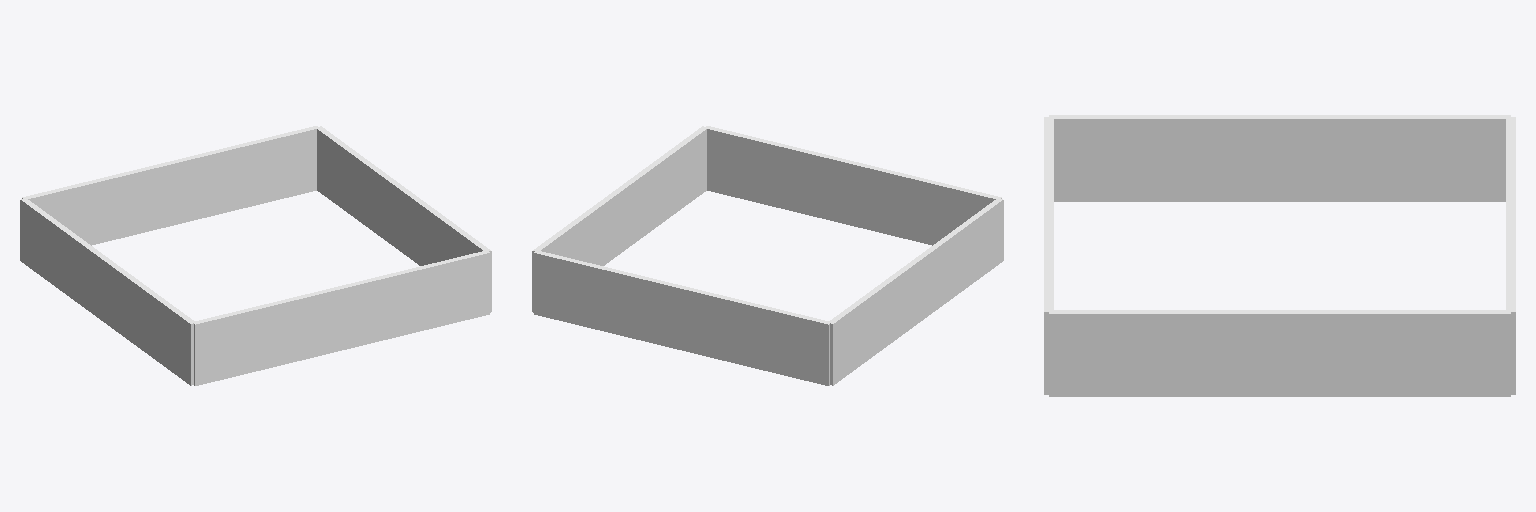
URDF robot description (unnamed):
<robot name="unnamed" version="1.0">
  <joint name="wall_1_2" type="fixed">
    <origin rpy="0.00000 0.00000 0.00000" xyz="0.00000 0.00000 0.00000"/>
    <parent link="wall_1"/>
    <child link="wall_2"/>
  </joint>
  <joint name="wall_2_3" type="fixed">
    <origin rpy="0.00000 0.00000 0.00000" xyz="0.00000 0.00000 0.00000"/>
    <parent link="wall_2"/>
    <child link="wall_3"/>
  </joint>
  <joint name="wall_3_4" type="fixed">
    <origin rpy="0.00000 0.00000 0.00000" xyz="0.00000 0.00000 0.00000"/>
    <parent link="wall_3"/>
    <child link="wall_4"/>
  </joint>
  <link name="wall_1">
    <collision name="ceiling_collision">
      <origin rpy="0.00000 0.00000 0.00000" xyz="0.00000 0.00000 3.00000"/>
      <geometry>
        <box size="5.00000 5.00000 0.10000"/>
      </geometry>
    </collision>
    <collision name="wall_1_collision">
      <origin rpy="1.57080 0.00000 0.00000" xyz="2.50000 0.00000 1.50000"/>
      <geometry>
        <box size="0.10000 3.00000 5.00000"/>
      </geometry>
    </collision>
    <visual name="wall_1_visual">
      <origin rpy="0.00000 0.00000 0.00000" xyz="2.50000 0.00000 0.50000"/>
      <material name="white.001"/>
      <geometry>
        <box size="0.10000 5.00000 1.00000"/>
      </geometry>
    </visual>
  </link>
  <link name="wall_2">
    <collision name="wall_2_collision">
      <origin rpy="0.00000 0.00000 0.00000" xyz="-2.50000 0.00000 1.50000"/>
      <geometry>
        <box size="0.10000 5.00000 3.00000"/>
      </geometry>
    </collision>
    <visual name="wall_2_visual">
      <origin rpy="0.00000 0.00000 0.00000" xyz="-2.50000 0.00000 0.50000"/>
      <material name="white"/>
      <geometry>
        <box size="0.10000 5.00000 1.00000"/>
      </geometry>
    </visual>
  </link>
  <link name="wall_3">
    <collision name="wall_3_collision">
      <origin rpy="0.00000 0.00000 0.00000" xyz="0.00000 2.50000 1.50000"/>
      <geometry>
        <box size="5.00000 0.10000 3.00000"/>
      </geometry>
    </collision>
    <visual name="wall_3_visual">
      <origin rpy="0.00000 0.00000 0.00000" xyz="0.00000 2.50000 0.50000"/>
      <material name="white.002"/>
      <geometry>
        <box size="5.00000 0.10000 1.00000"/>
      </geometry>
    </visual>
  </link>
  <link name="wall_4">
    <collision name="wall_4_collision">
      <origin rpy="0.00000 0.00000 0.00000" xyz="0.00000 -2.50000 1.50000"/>
      <geometry>
        <box size="5.00000 0.10000 3.00000"/>
      </geometry>
    </collision>
    <visual name="wall_4_visual">
      <origin rpy="0.00000 0.00000 0.00000" xyz="0.00000 -2.50000 0.50000"/>
      <material name="white.003"/>
      <geometry>
        <box size="5.00000 0.10000 1.00000"/>
      </geometry>
    </visual>
  </link>
  <material name="white">
    <color rgba="1.00000 1.00000 1.00000 1.00000"/>
  </material>
  <material name="white.001">
    <color rgba="1.00000 1.00000 1.00000 1.00000"/>
  </material>
  <material name="white.002">
    <color rgba="1.00000 1.00000 1.00000 1.00000"/>
  </material>
  <material name="white.003">
    <color rgba="1.00000 1.00000 1.00000 1.00000"/>
  </material>
</robot>

--- What the picture shows (computed from the rendered views, not written in the file) ---
3 views of the same robot in one strip: view 1: azimuth 30°, elevation 25°; view 2: azimuth 150°, elevation 25°; view 3: azimuth 270°, elevation 25° (orthographic).
Robot: unnamed — 4 links, 3 joints (3 fixed); root link wall_1; default pose: every joint at zero.
Visible links, largest first — view 1: wall_4, wall_3, wall_2, wall_1; view 2: wall_3, wall_4, wall_2, wall_1; view 3: wall_1, wall_2, wall_3, wall_4.
Boxes of the visible links, x1,y1,x2,y2 form: wall_4: [194, 250, 489, 385]; wall_3: [22, 126, 318, 245]; wall_2: [20, 198, 194, 385]; wall_1: [317, 126, 491, 312]; wall_3: [534, 250, 829, 385]; wall_4: [705, 126, 1001, 245]; wall_2: [828, 198, 1003, 385]; wall_1: [532, 126, 706, 312]; wall_1: [1049, 310, 1510, 396]; wall_2: [1049, 115, 1510, 201]; wall_3: [1506, 117, 1515, 394]; wall_4: [1044, 117, 1053, 394].
Size in the robot's own frame: 5.1 by 5.1 by 1 metres.
Geometry: primitives only (box / cylinder / sphere), no mesh files.